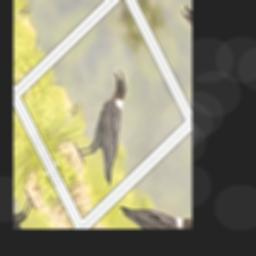Crow: (61, 65, 158, 198)
